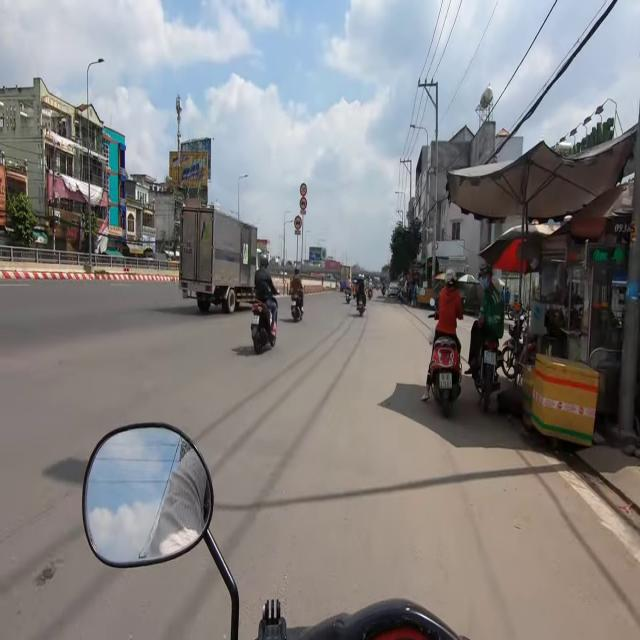bien_trang: (439, 370, 453, 392), (484, 348, 497, 368)
